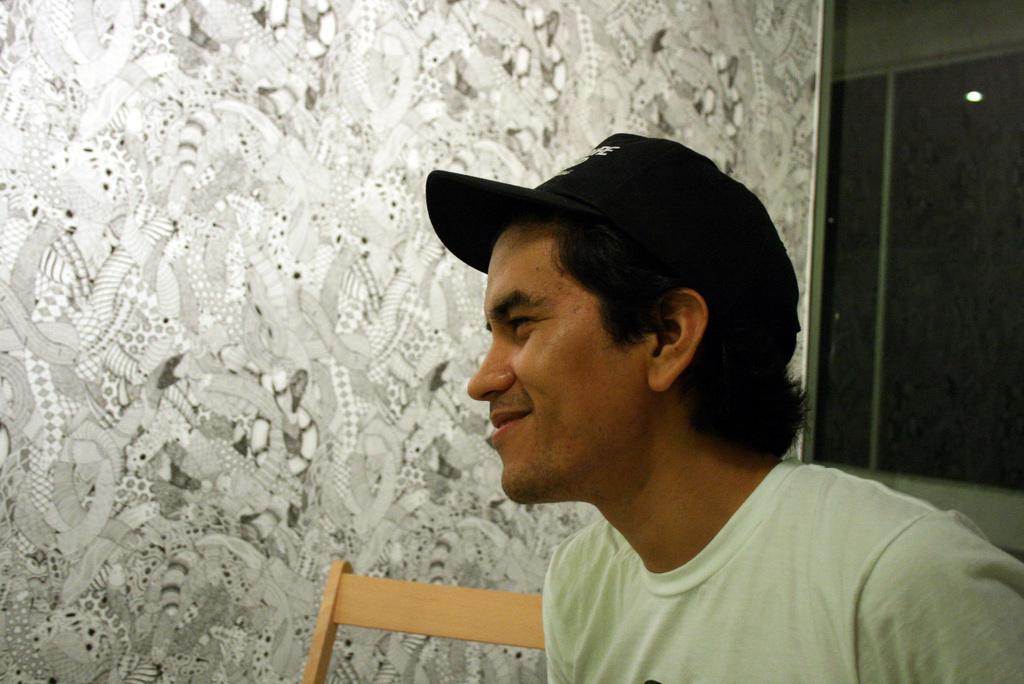Hat: (420, 130, 808, 361)
